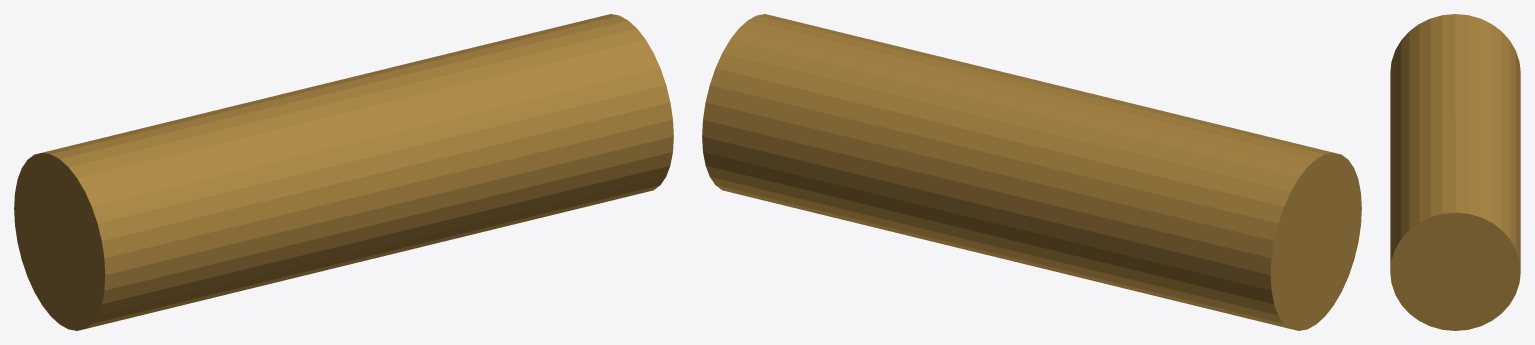
The model's file is log_2x1_fbx.fbx.
3 views of the same model, side by side, from view 1: azimuth 30°, elevation 25°; view 2: azimuth 150°, elevation 25°; view 3: azimuth 270°, elevation 25° (orthographic). The views are drawn at different scales.
Parts seen in each view (by area): view 1: Cylinder; view 2: Cylinder; view 3: Cylinder.
Boxes of the visible parts, bbox=[...] form: Cylinder: bbox=[14, 14, 673, 330]; Cylinder: bbox=[702, 14, 1361, 330]; Cylinder: bbox=[1390, 14, 1520, 330].
Size of the model in its own units: 180 by 50 by 50.
